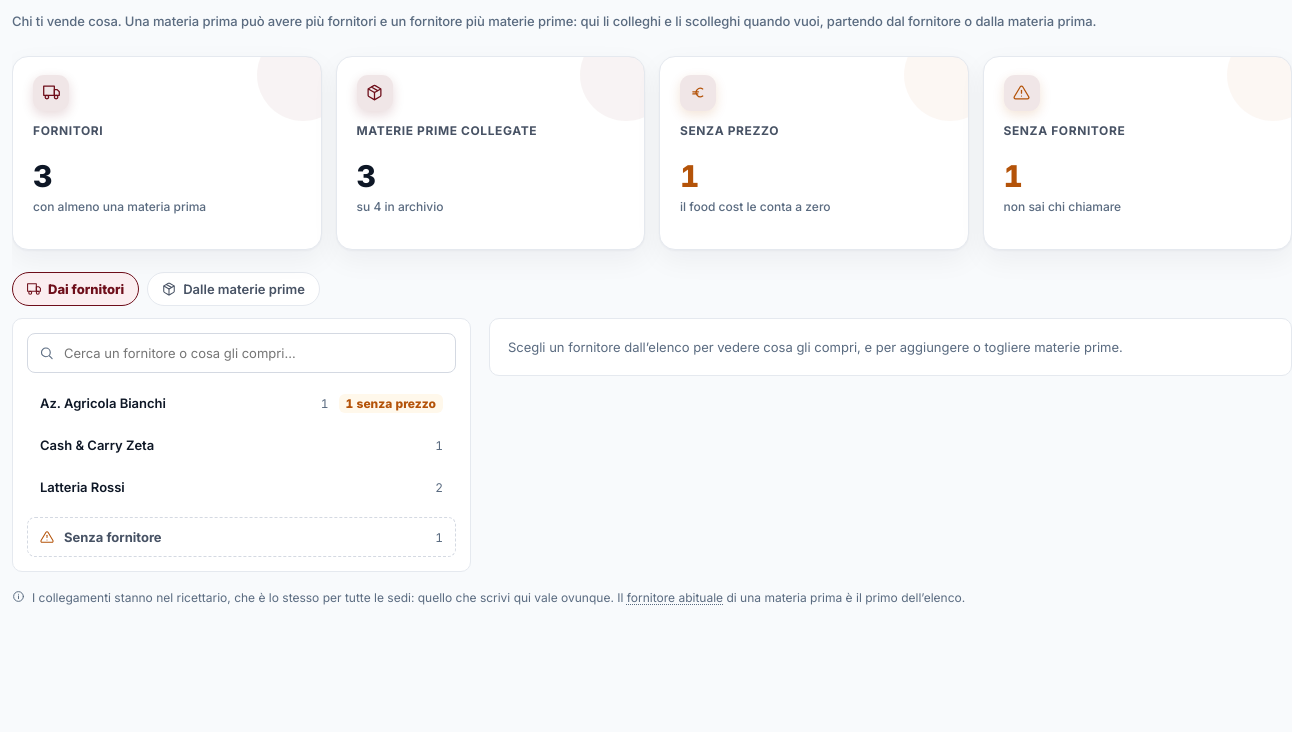
i numeri per cui la pagina esiste › le materie prime senza nessun fornitore sono in elenco, non nascoste
The image size is (1292, 732).
Click the button "Senza fornitore 1" at (113, 537), box [27,517,456,557]
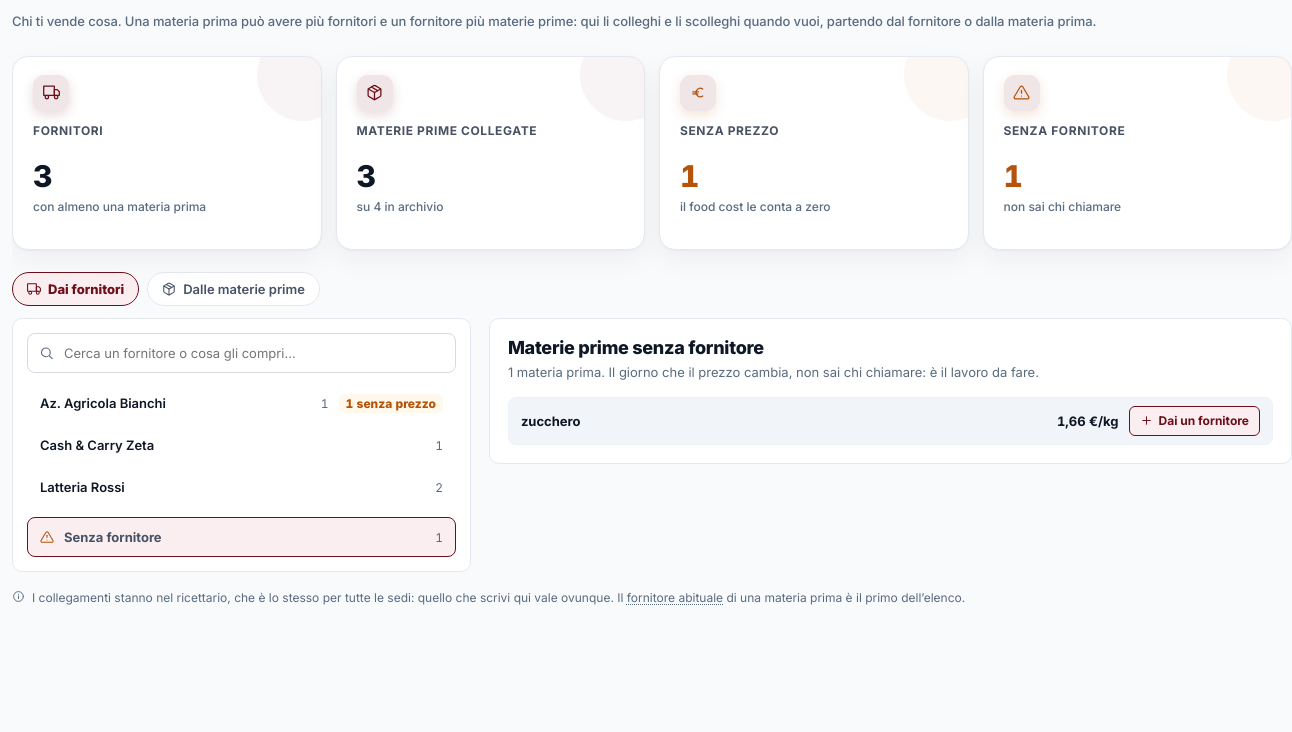
Expected: the heading "Materie prime senza fornitore" is shown, [508,337,764,358]
Expected: the text "zucchero" is shown, [521,412,580,428]
